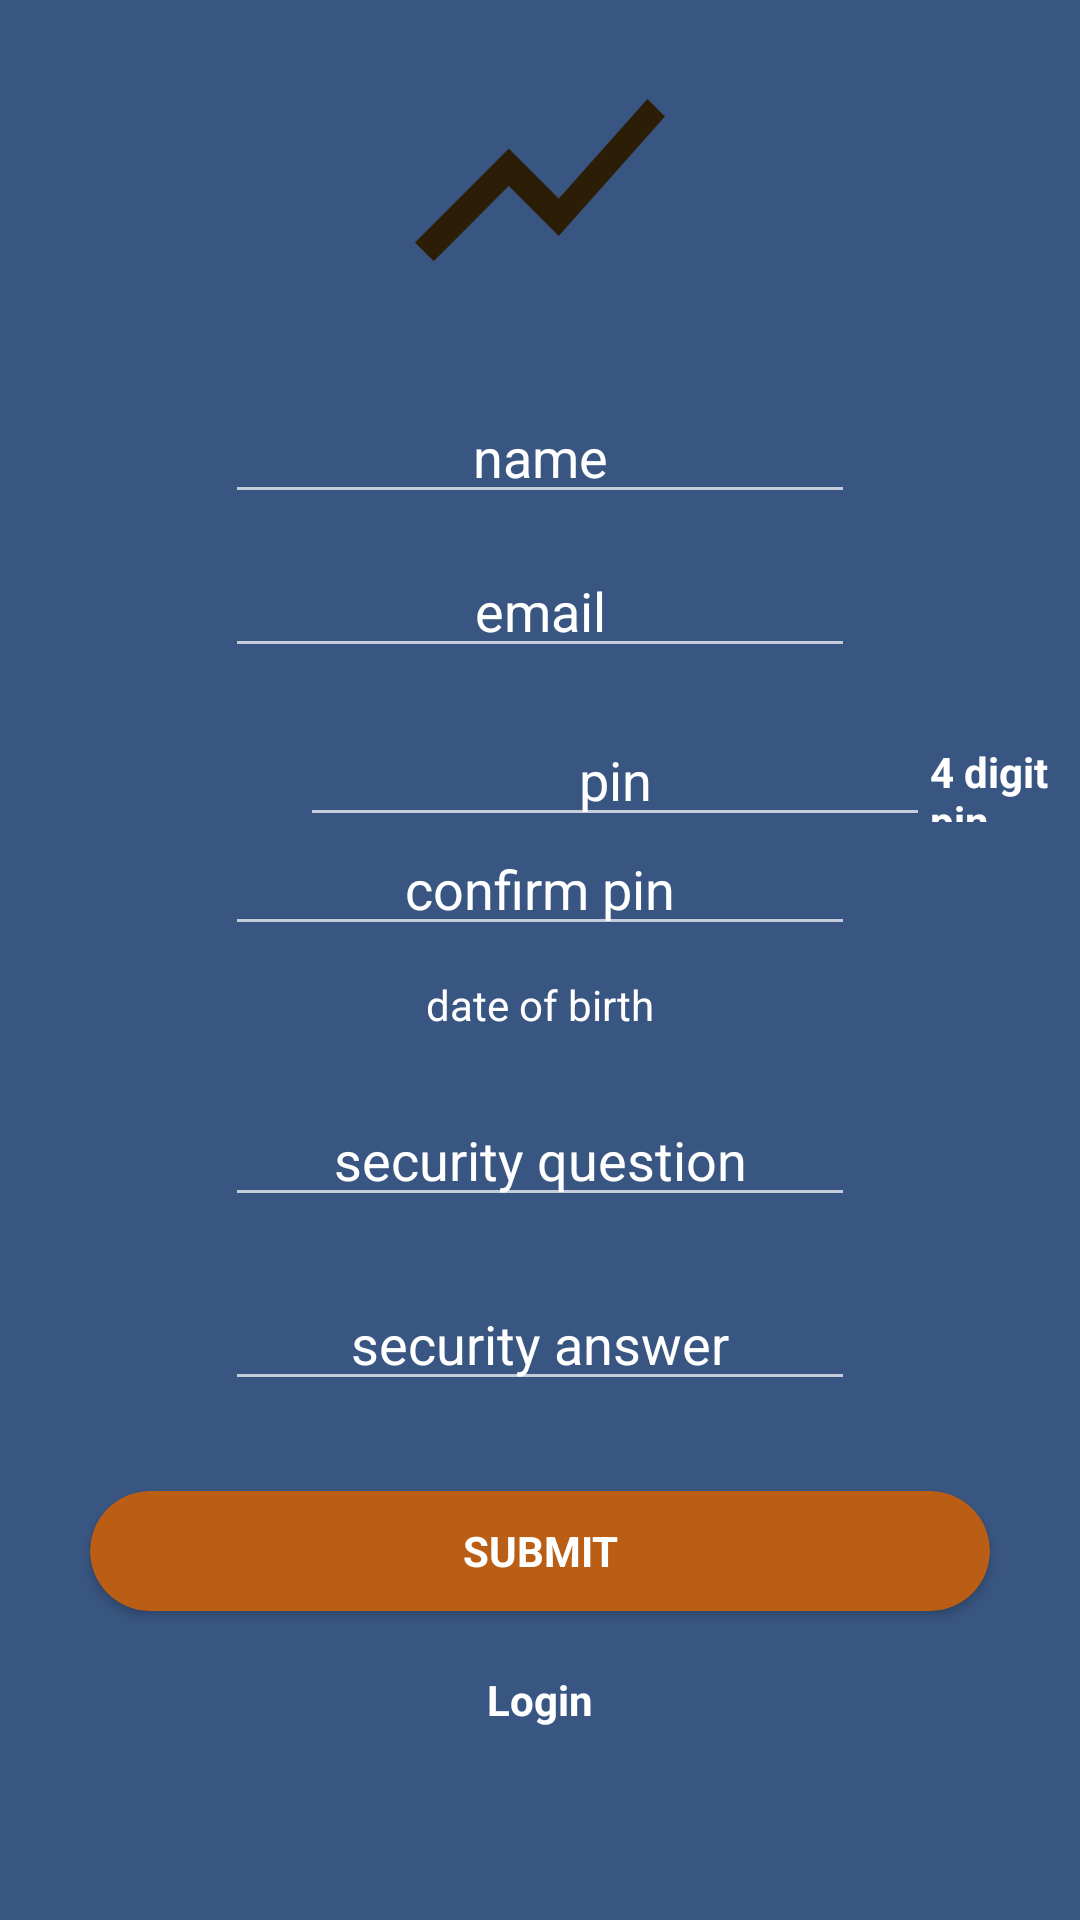

Screen size 1080px×1920px. Icon name, then its center in pixels as (x=x, y=y):
show chart: (x=540, y=180)
